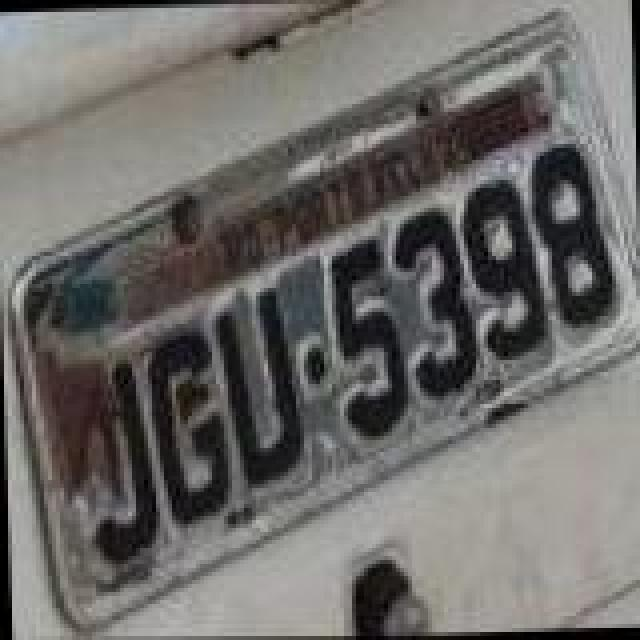3: (390, 202, 482, 402)
5: (322, 230, 414, 442)
8: (526, 142, 622, 330)
9: (454, 178, 550, 366)
G: (142, 324, 234, 528)
J: (84, 354, 164, 570)
U: (210, 282, 306, 486)
